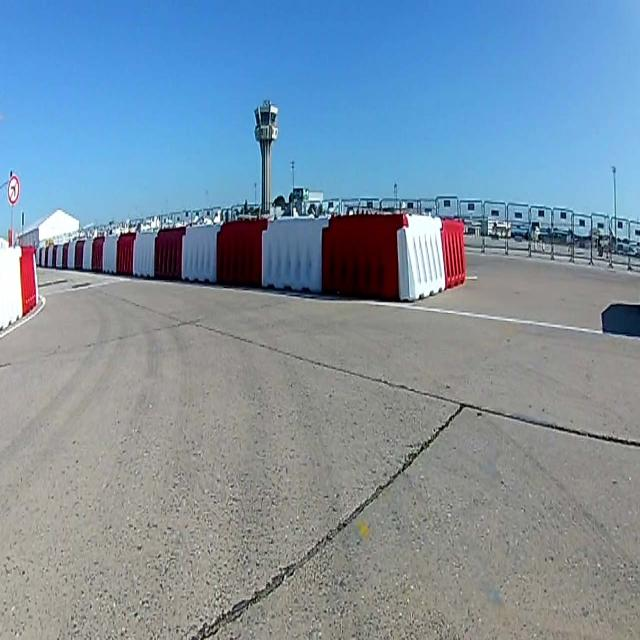soladonulmez: (7, 172, 20, 204)
